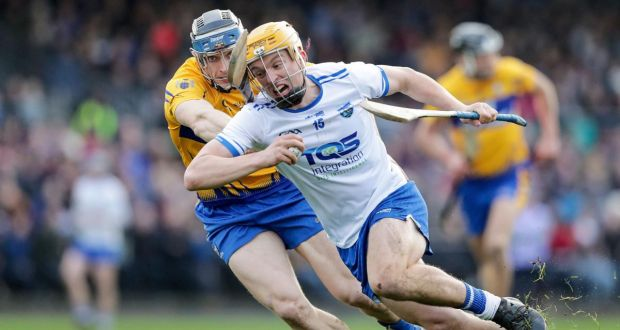hurley: (358, 94, 539, 131), (227, 27, 258, 101)
